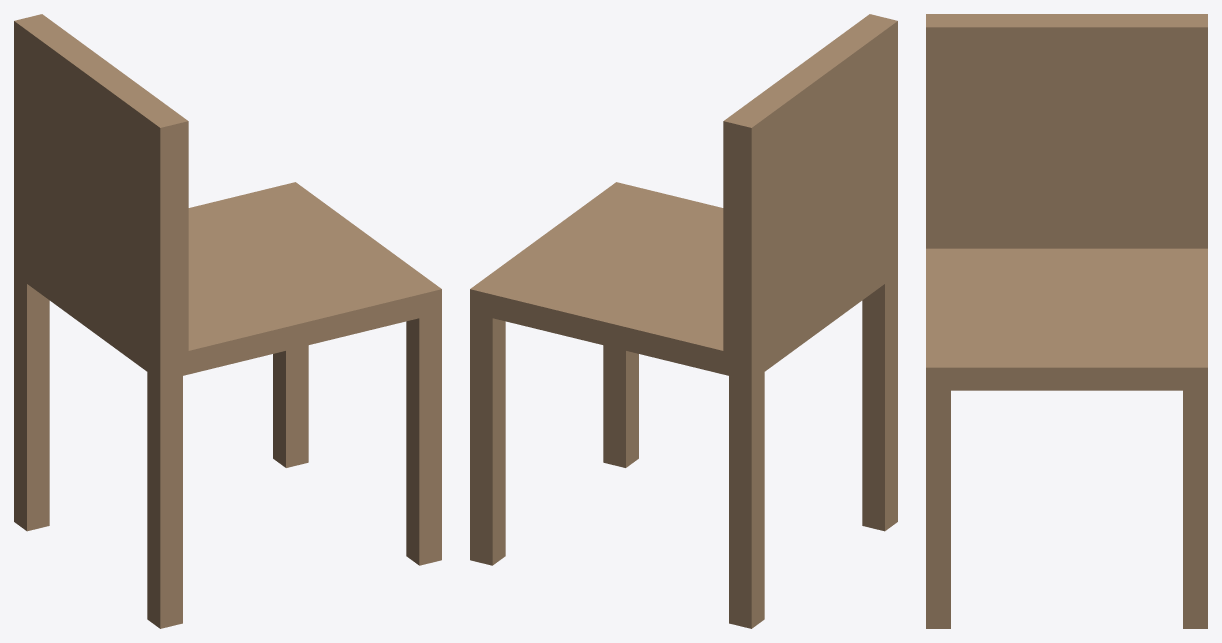
Rendered from dining-chair-450.glb.
3 views of the same model, side by side, from view 1: azimuth 30°, elevation 25°; view 2: azimuth 150°, elevation 25°; view 3: azimuth 270°, elevation 25° (orthographic). The views are drawn at different scales.
Visible parts, largest first — view 1: dining-chair-450; view 2: dining-chair-450; view 3: dining-chair-450.
Part boxes in pixels (bbox=[...]): dining-chair-450: bbox=[14, 14, 441, 628]; dining-chair-450: bbox=[470, 14, 897, 628]; dining-chair-450: bbox=[926, 14, 1207, 628].
Size of the model in its own units: 0.5 by 0.85 by 0.45.
